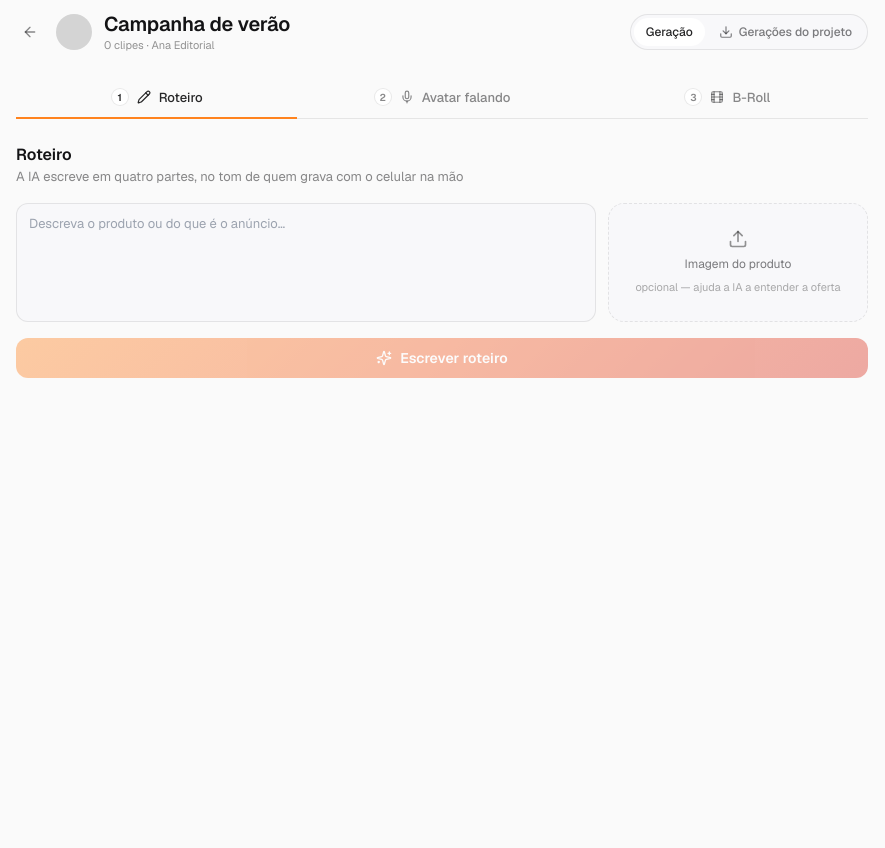
Test: UgcProjectPage › escrever o roteiro preenche os quatro segmentos, editáveis
This screenshot has width=885, height=848.
Type "película de controle solar" into the text box named "Descrição do produto". click: (306, 262)
box: 16,202 -> 596,322
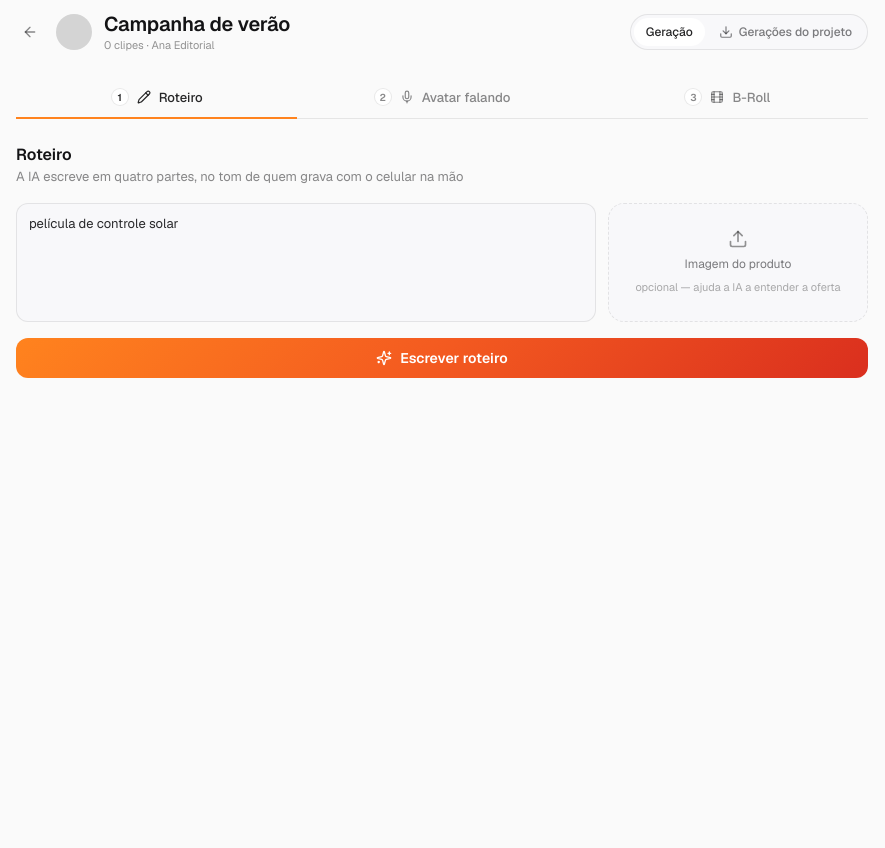
Click the button "Escrever roteiro". click: (442, 358)
box: 16,338 -> 868,378
(page scrolled)
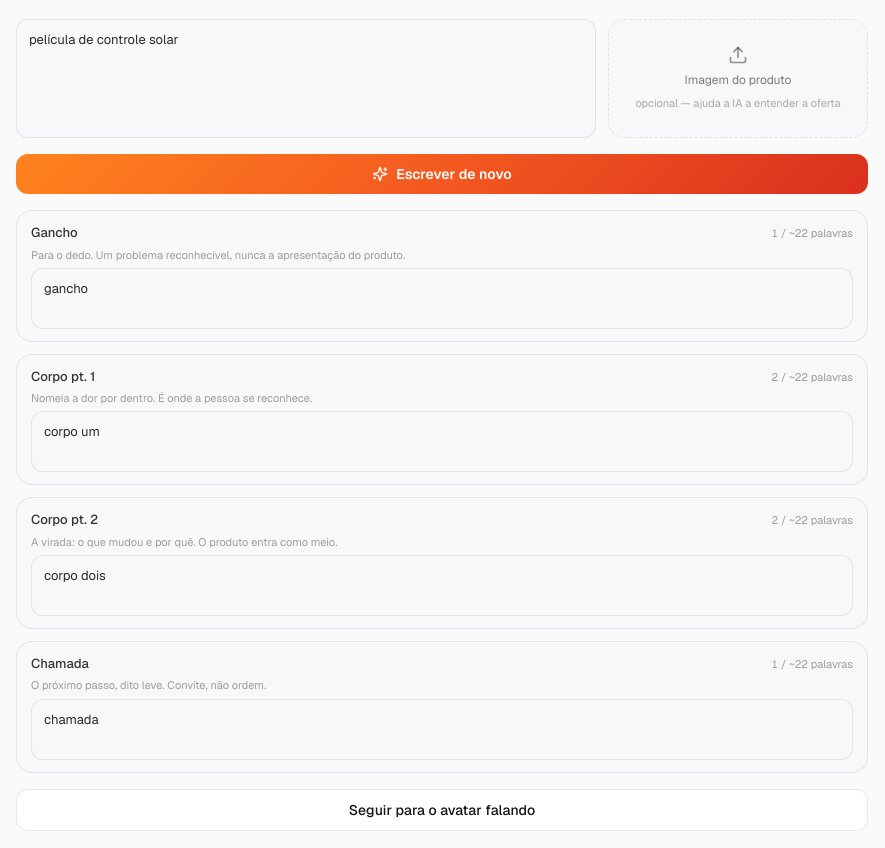
Result: the text box showing "gancho" is shown at 31,268 -> 853,329
Result: the text box showing "chamada" is shown at 31,698 -> 853,760
